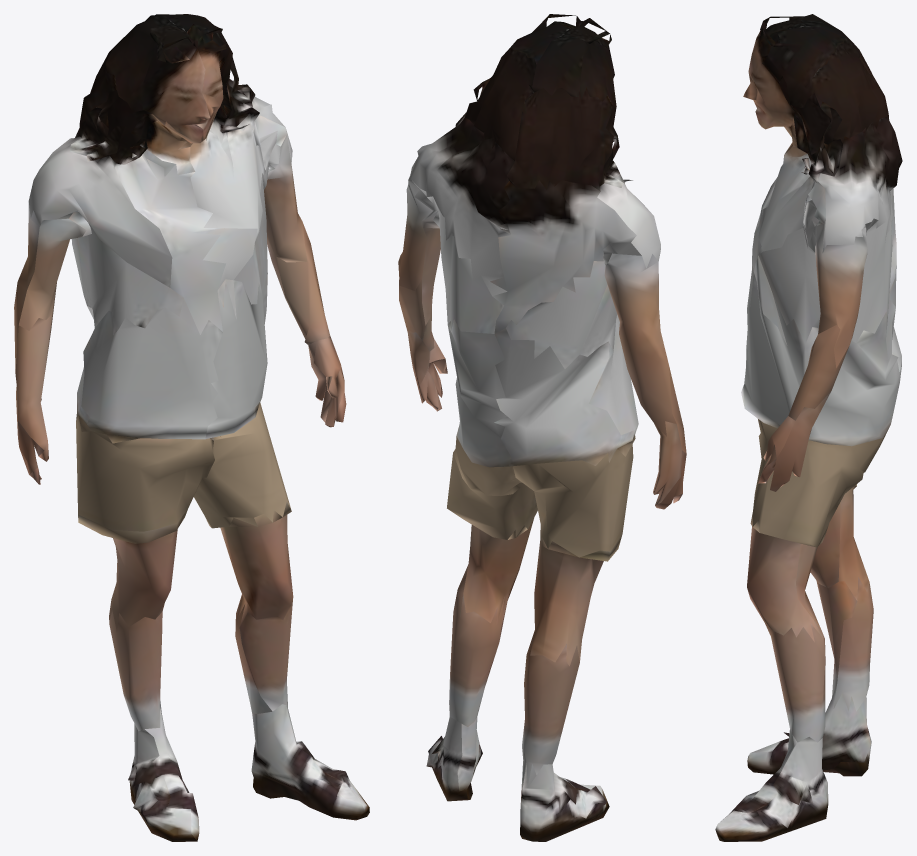
File: bule_cewek_1_idle_lod2.glb
The picture shows the model from 3 angles, left to right: view 1: azimuth 30°, elevation 25°; view 2: azimuth 150°, elevation 25°; view 3: azimuth 270°, elevation 25°; orthographic projection. The views are drawn at different scales.
Parts seen in each view (by area): view 1: tripo_node_4c15db2a; view 2: tripo_node_4c15db2a; view 3: tripo_node_4c15db2a.
Boxes of the visible parts, box(x1,y1,x2,y2) form: tripo_node_4c15db2a: box(14, 14, 369, 841); tripo_node_4c15db2a: box(398, 14, 686, 841); tripo_node_4c15db2a: box(715, 14, 902, 841).
Size of the model in its own units: 37.93 by 98.31 by 22.22.
Materials: 1 (1 with a texture image).
